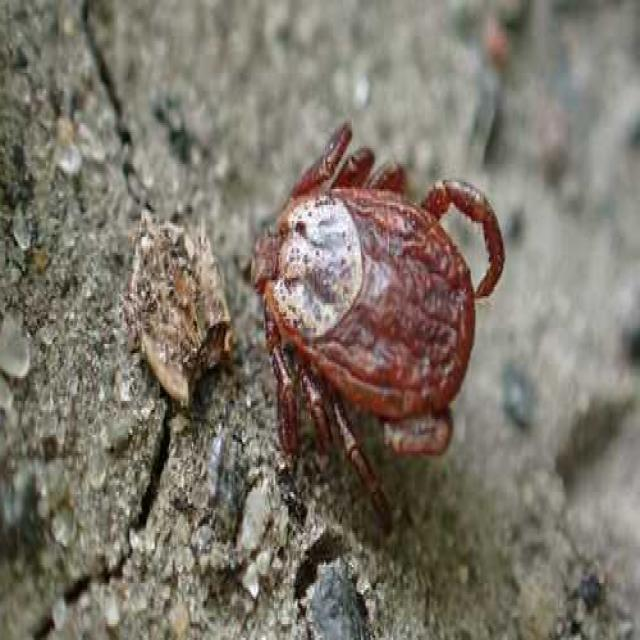Dermacentor Reticulatus-F: (251, 121, 506, 535)
